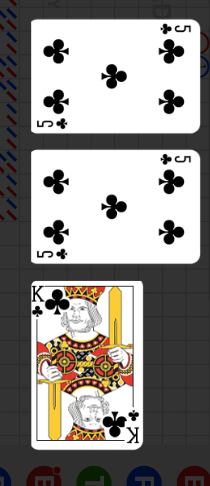5C: (35, 247, 70, 261), (158, 23, 192, 37)
KC: (122, 405, 141, 446)
